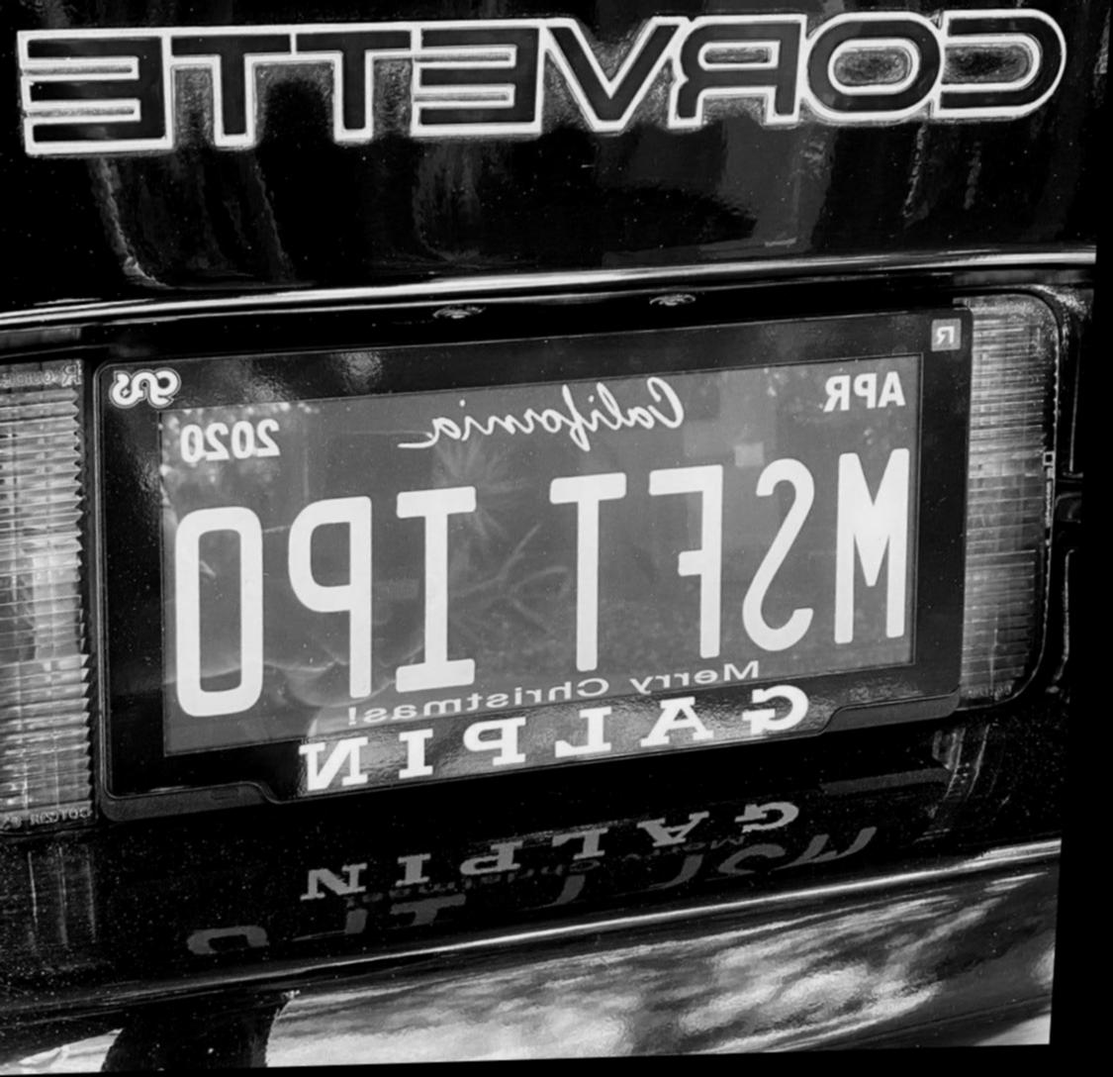License_Plate: (129, 361, 919, 785)
